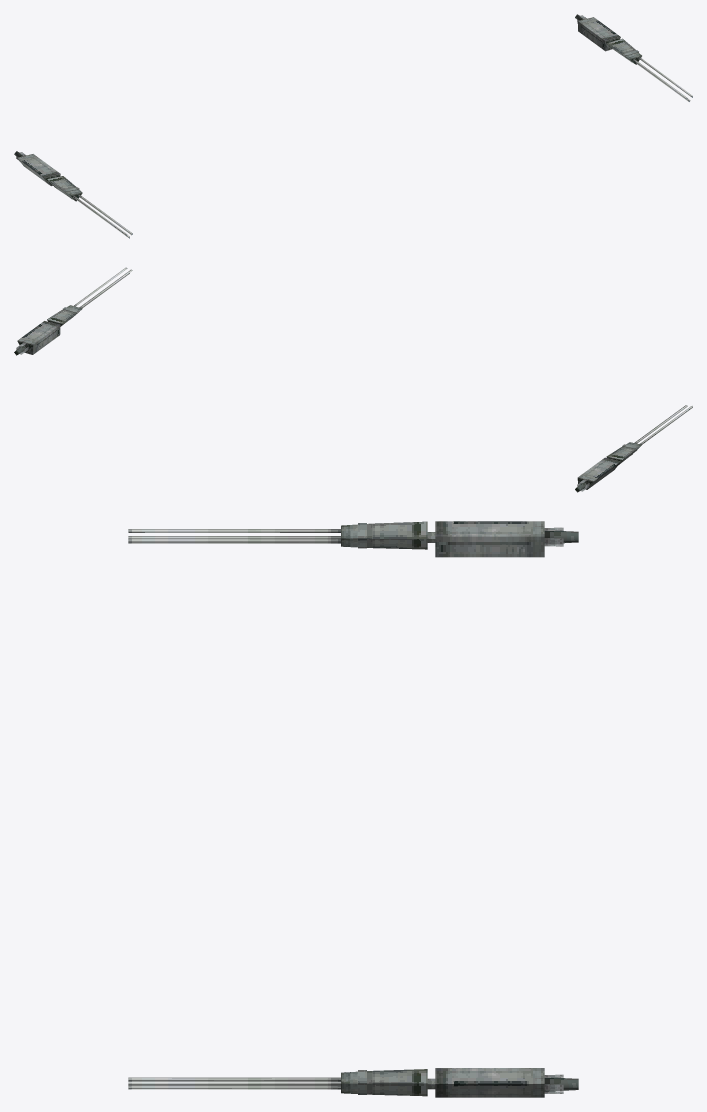
File: hutt_fighter_heavy_weapon2_s04_l2.fbx
The picture shows the model from 3 angles, top to bottom: view 1: azimuth 30°, elevation 25°; view 2: azimuth 150°, elevation 25°; view 3: azimuth 270°, elevation 25°; orthographic projection. The views are drawn at different scales.
Parts seen in each view (by area): view 1: mesh_node; view 2: mesh_node; view 3: mesh_node.
Boxes of the visible parts, left/top/right/bottom form: mesh_node: left=14, top=14, right=692, bottom=238; mesh_node: left=14, top=267, right=692, bottom=492; mesh_node: left=128, top=521, right=578, bottom=1097.
Bounding box in the file's own units: 26.78 × 0.4694 × 9.05.
Materials: 1 (1 with a texture image).
